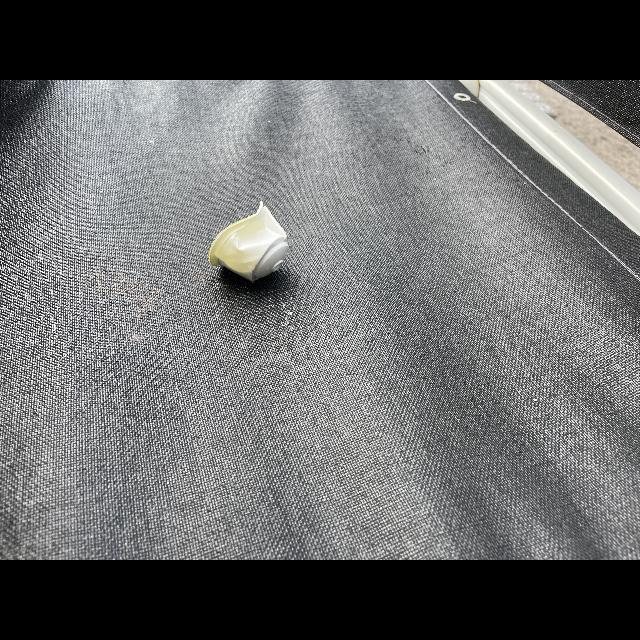damaged_capsule: (198, 192, 300, 282)
